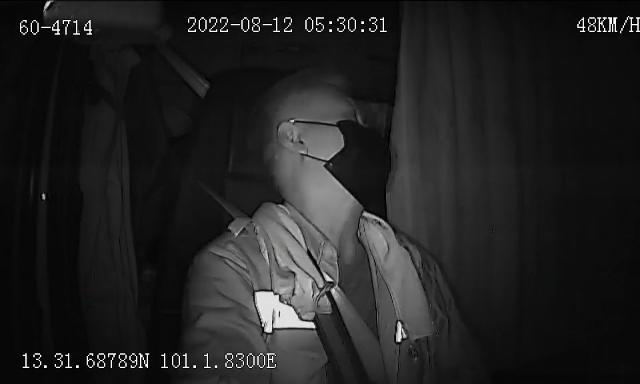Seatbelt: (220, 198, 386, 384)
